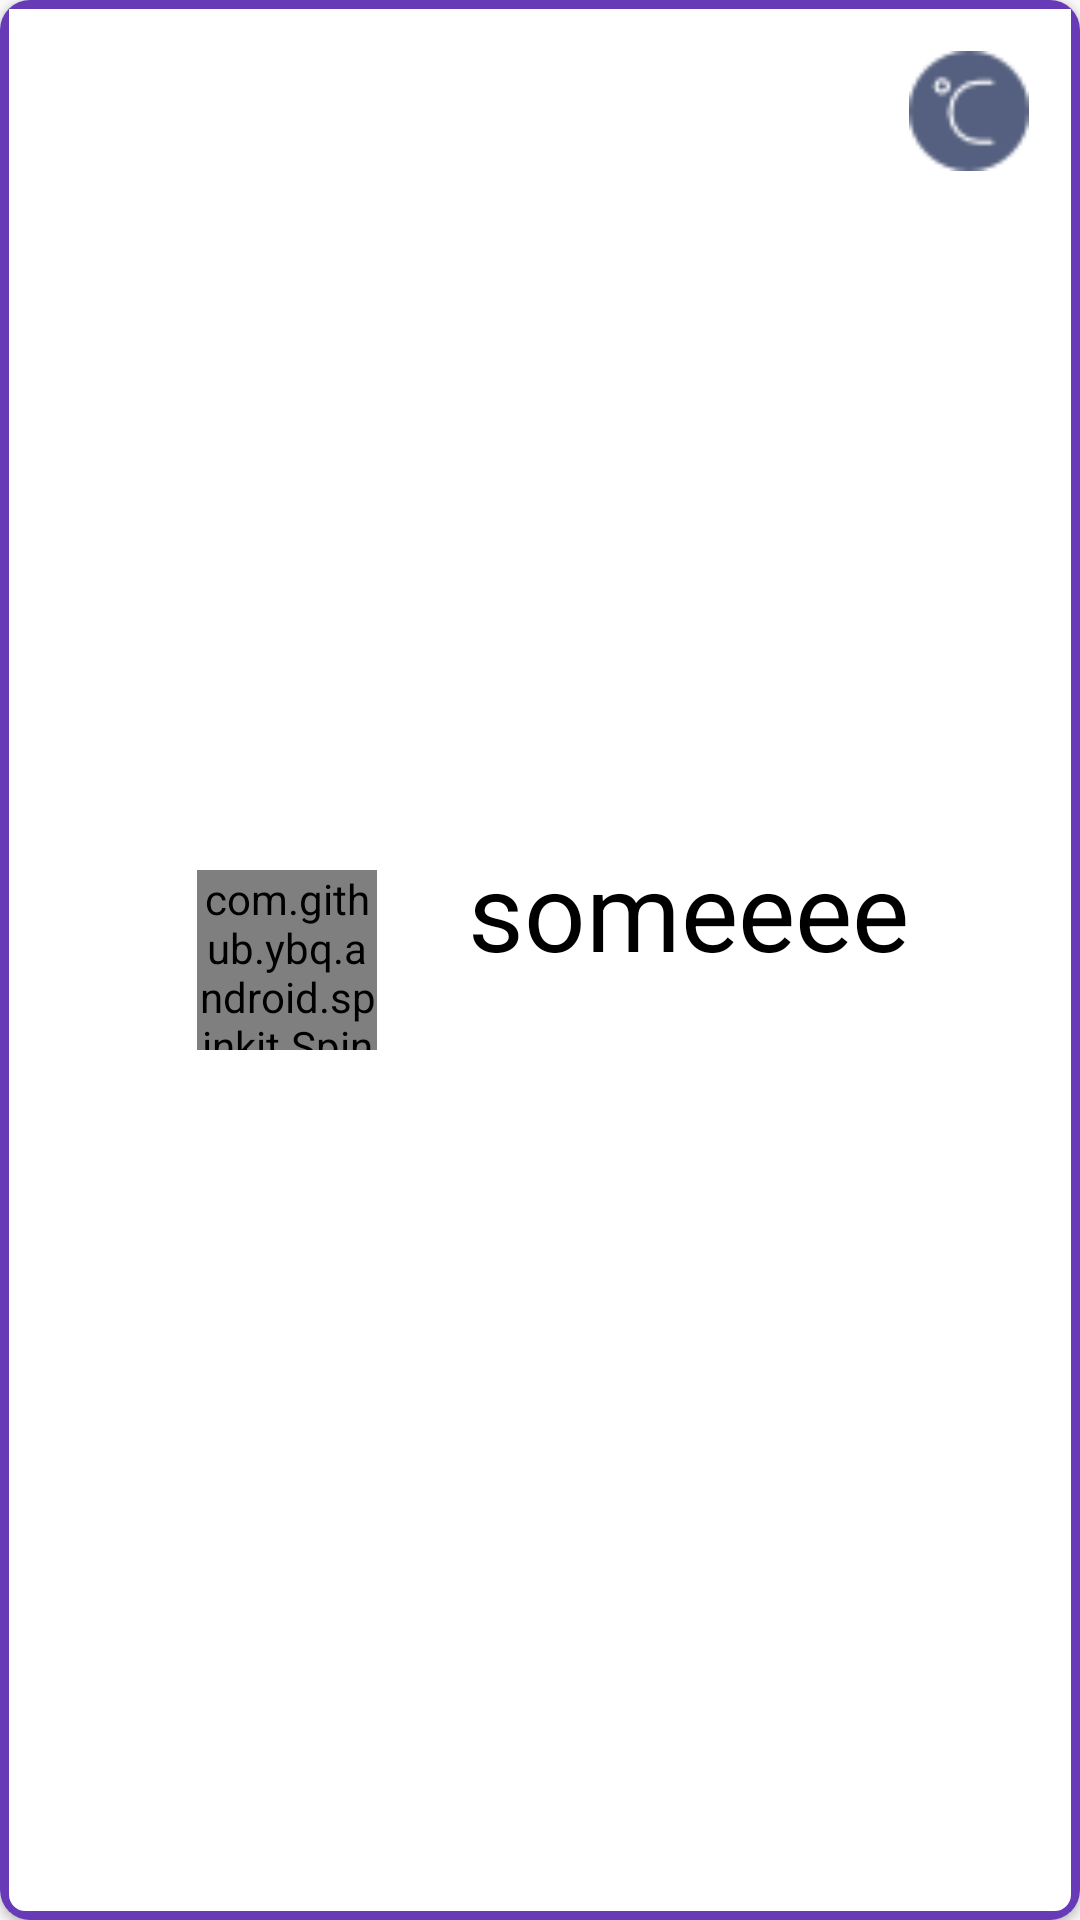

Named icons in this screenshot (1080px×1920px) and their centers, (x,y):
celsius: (969,111)
